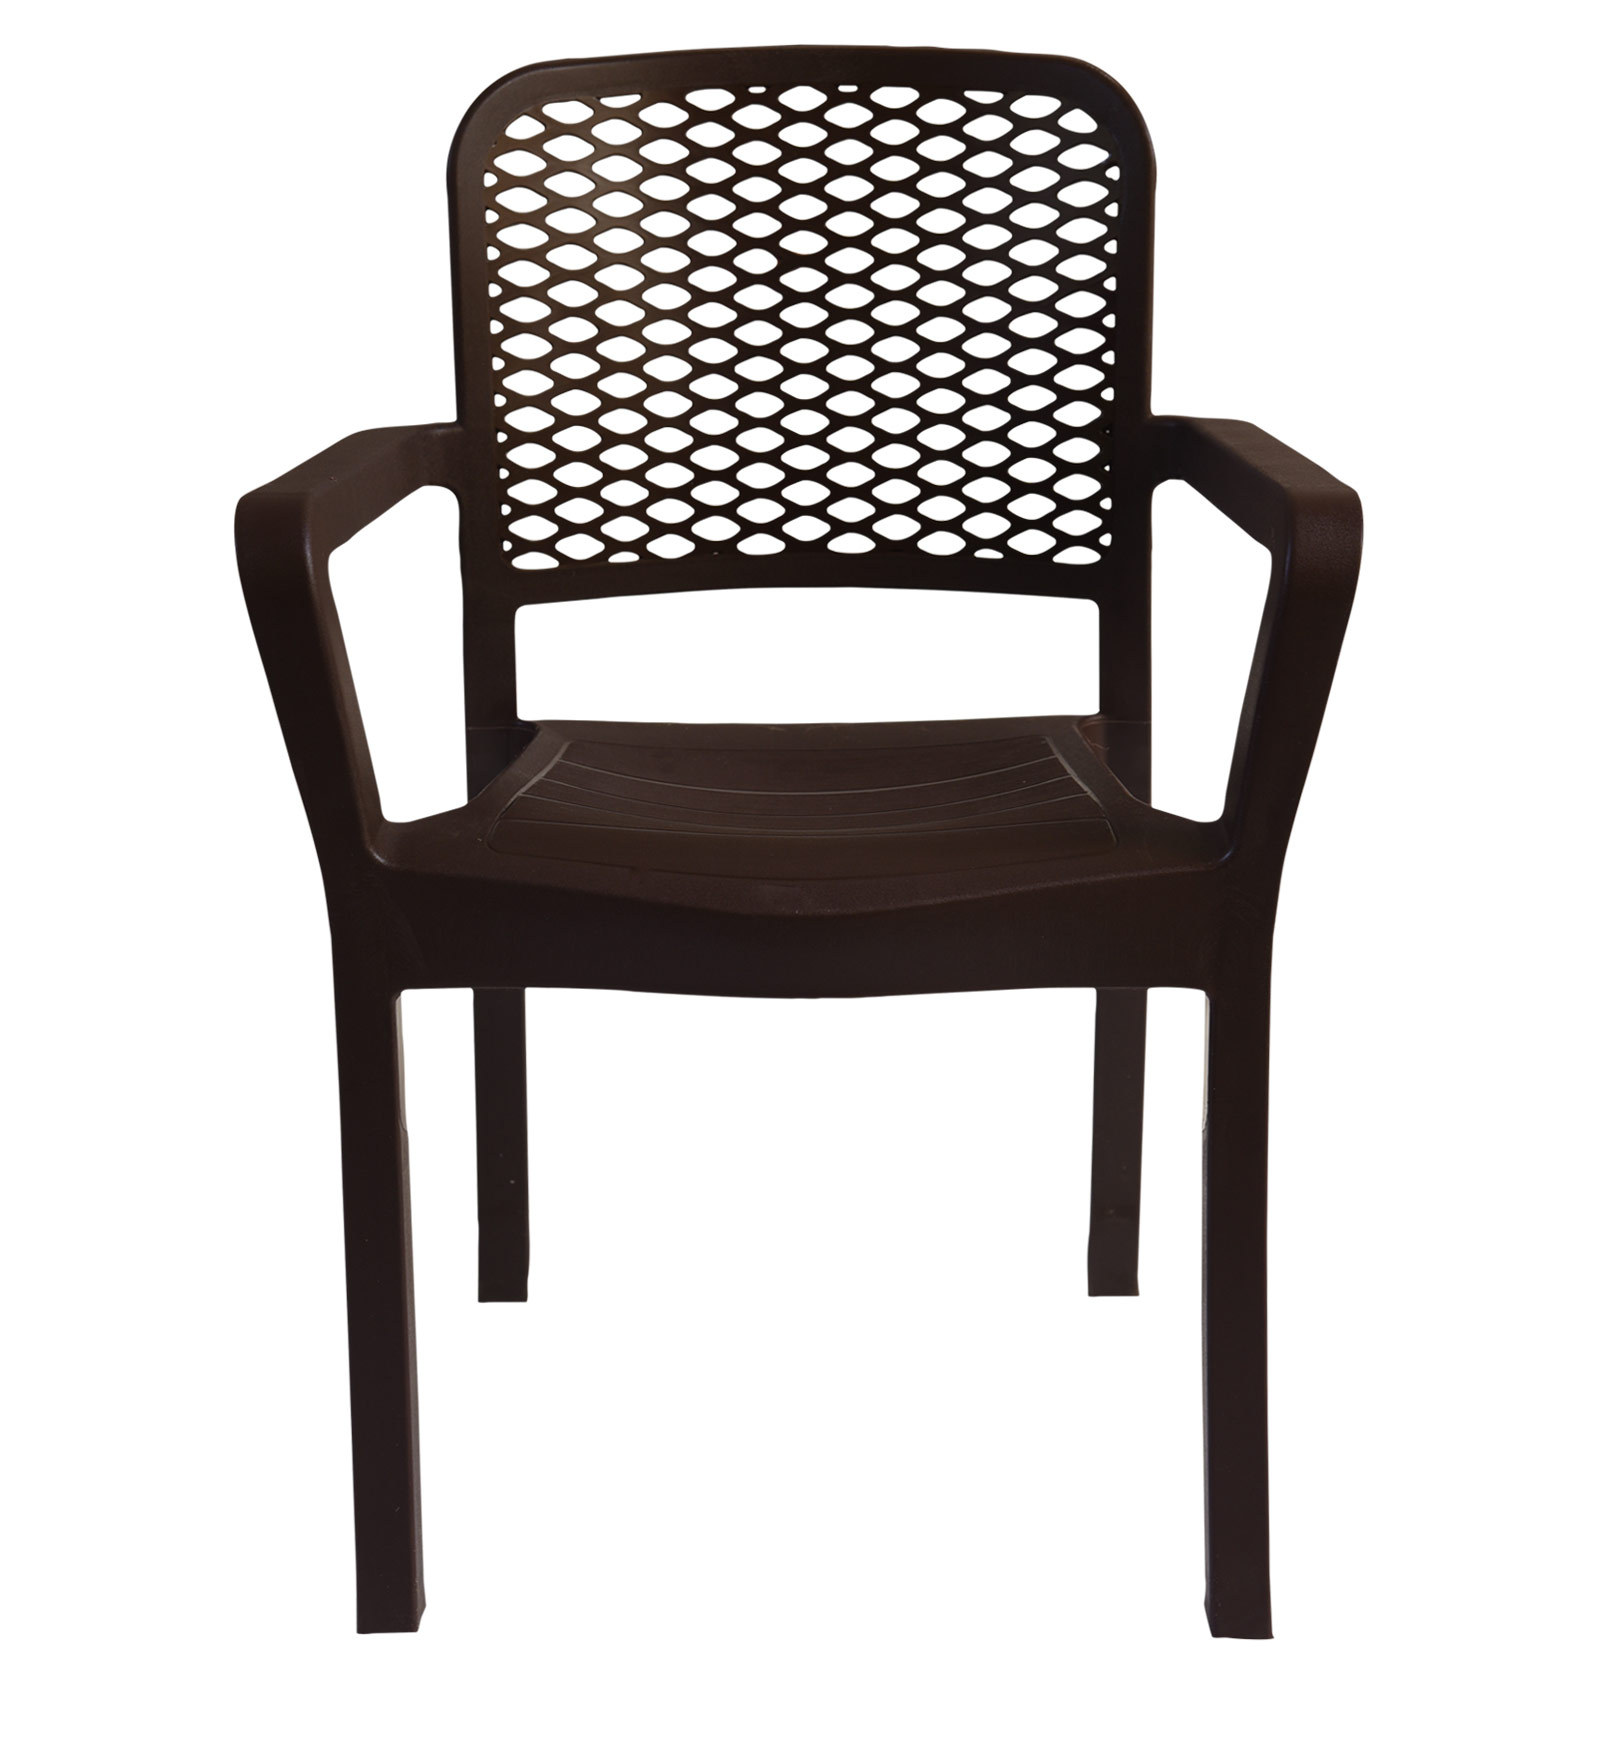Luxury Plastic Chair (Set of 2) in Brown Colour by Italica Furniture: (228, 40, 1362, 1640)
